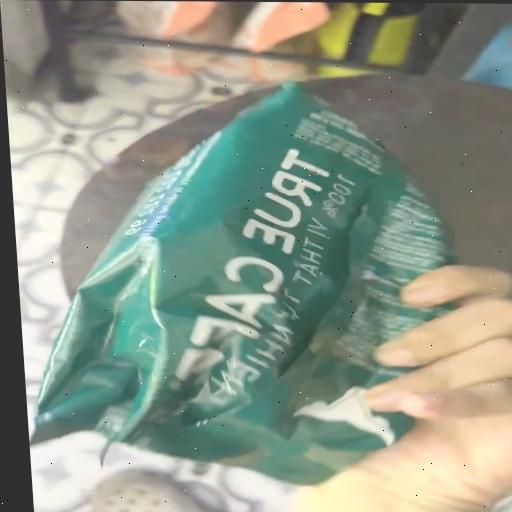cafe_xay: (33, 85, 454, 484)
